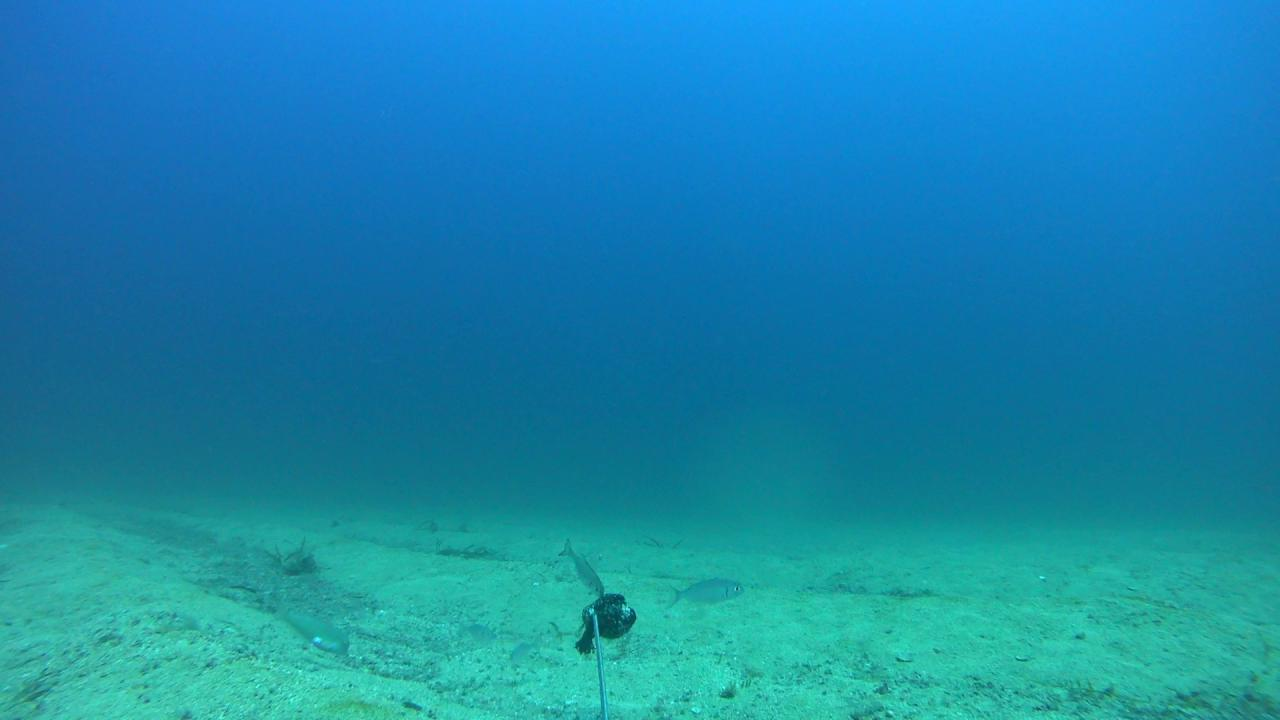pagellus: (558, 537, 602, 596), (667, 577, 744, 607), (506, 634, 546, 662), (455, 619, 499, 643)
raor: (264, 598, 354, 656)
